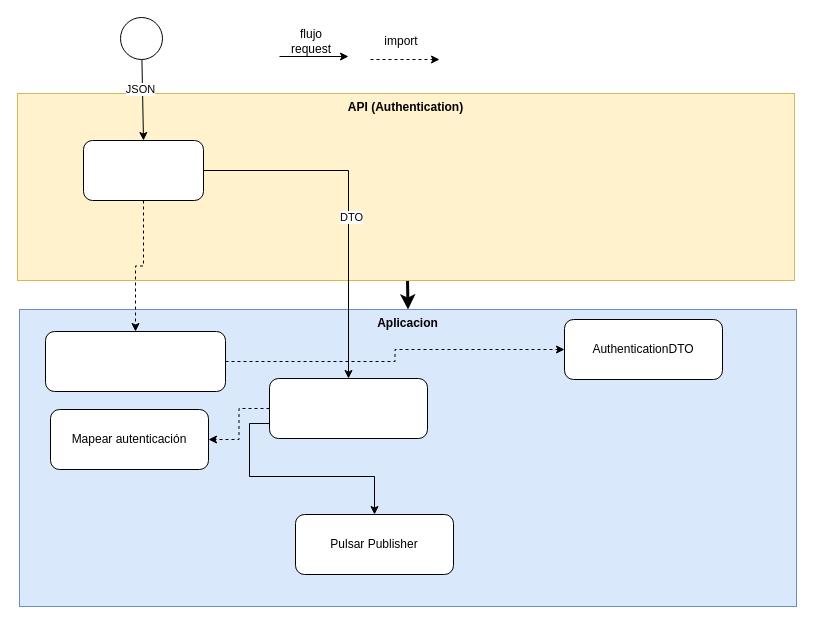
This 814x624 diagram has some shape labels left out. The centre of each missing label's shape, as x and y in pixels:
AuthenticationMapperDTOJson: (135,361)
Reservar: (143,170)
Servicio Authentication CreateSessionCommand: (348,408)
